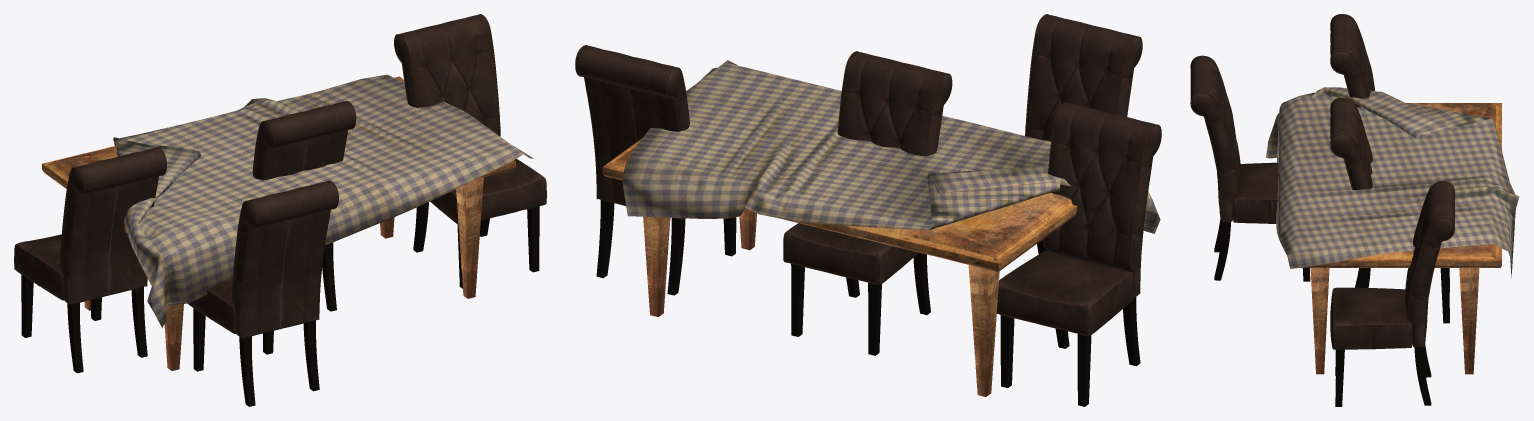
File: h_tbl0.glb
3 renders of one model, left to right at view 1: azimuth 30°, elevation 25°; view 2: azimuth 150°, elevation 25°; view 3: azimuth 270°, elevation 25°, orthographic. The views are drawn at different scales.
Parts seen in each view (by area): view 1: dining_table, dining_chair_02, dining_chair_02.002, dining_chair_02.001, dining_chair_02.003; view 2: dining_table, dining_chair_02.002, dining_chair_02.003, dining_chair_02.001, dining_chair_02; view 3: dining_table, dining_chair_02.001, dining_chair_02, dining_chair_02.003, dining_chair_02.002.
Part boxes in pixels (<box>): dining_table: <box>42,74,533,370</box>; dining_chair_02: <box>188,180,338,406</box>; dining_chair_02.002: <box>14,147,166,373</box>; dining_chair_02.001: <box>394,14,546,288</box>; dining_chair_02.003: <box>252,101,356,311</box>; dining_table: <box>602,60,1160,396</box>; dining_chair_02.002: <box>996,102,1161,406</box>; dining_chair_02.003: <box>783,51,952,355</box>; dining_chair_02.001: <box>575,45,736,295</box>; dining_chair_02: <box>1025,14,1142,254</box>; dining_table: <box>1266,87,1519,374</box>; dining_chair_02.001: <box>1330,181,1454,406</box>; dining_chair_02: <box>1190,55,1310,281</box>; dining_chair_02.003: <box>1330,97,1449,323</box>; dining_chair_02.002: <box>1330,14,1374,107</box>.
Size of the model in its own units: 2 by 0.8614 by 1.34.
2 materials, 2 textured.
